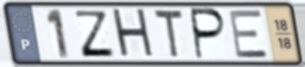1: (44, 7, 71, 60)
E: (227, 8, 271, 60)
H: (110, 7, 158, 61)
P: (190, 7, 229, 62)
T: (152, 8, 186, 61)
Z: (74, 9, 117, 59)
